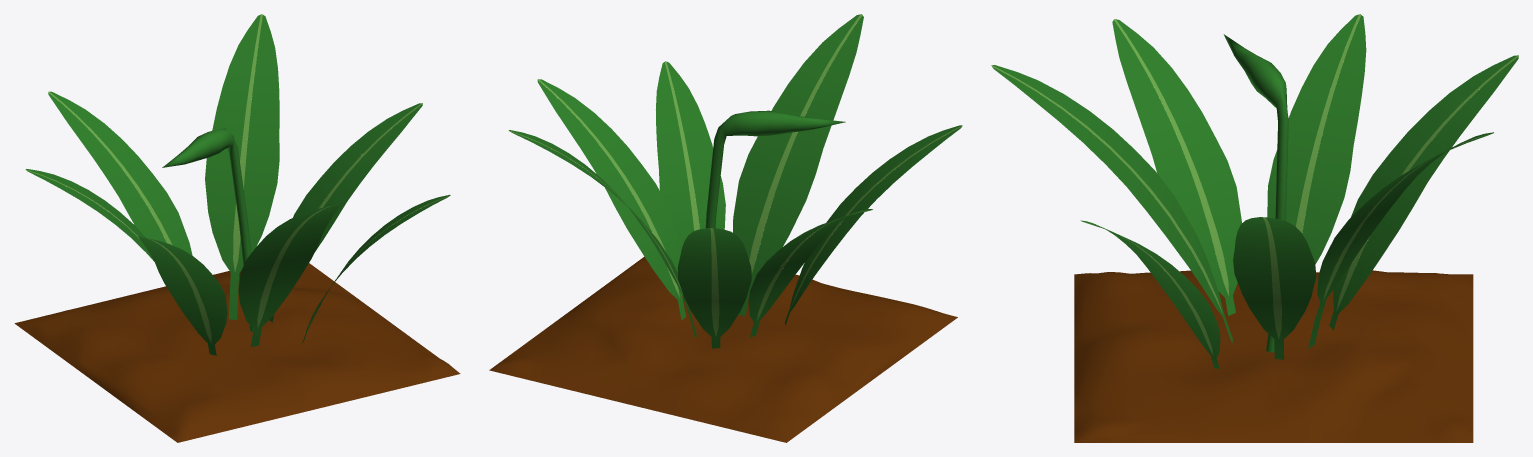
Rendered from bird-of-paradise-p1-leaf.glb.
The picture shows the model from 3 angles, left to right: view 1: azimuth 30°, elevation 25°; view 2: azimuth 150°, elevation 25°; view 3: azimuth 270°, elevation 25°; orthographic projection. The views are drawn at different scales.
Visible parts, largest first — view 1: 1_nft_out_of_bloom; view 2: 1_nft_out_of_bloom; view 3: 1_nft_out_of_bloom.
Boxes of the visible parts, x1,y1,x2,y2 form: 1_nft_out_of_bloom: [14, 14, 460, 442]; 1_nft_out_of_bloom: [489, 14, 962, 442]; 1_nft_out_of_bloom: [991, 14, 1518, 442].
Bounding box in the file's own units: 0.8853 × 0.5687 × 0.9263.
